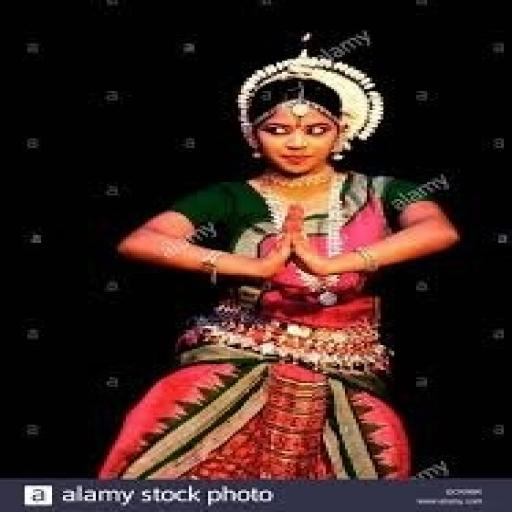dancing: (93, 36, 468, 482)
